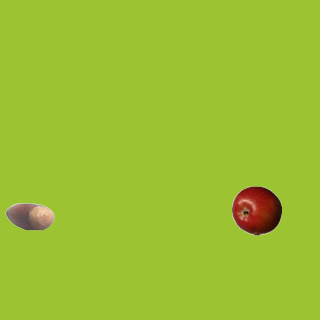Apple Braeburn: (231, 185, 281, 235)
Hazelnut: (4, 191, 54, 241)
